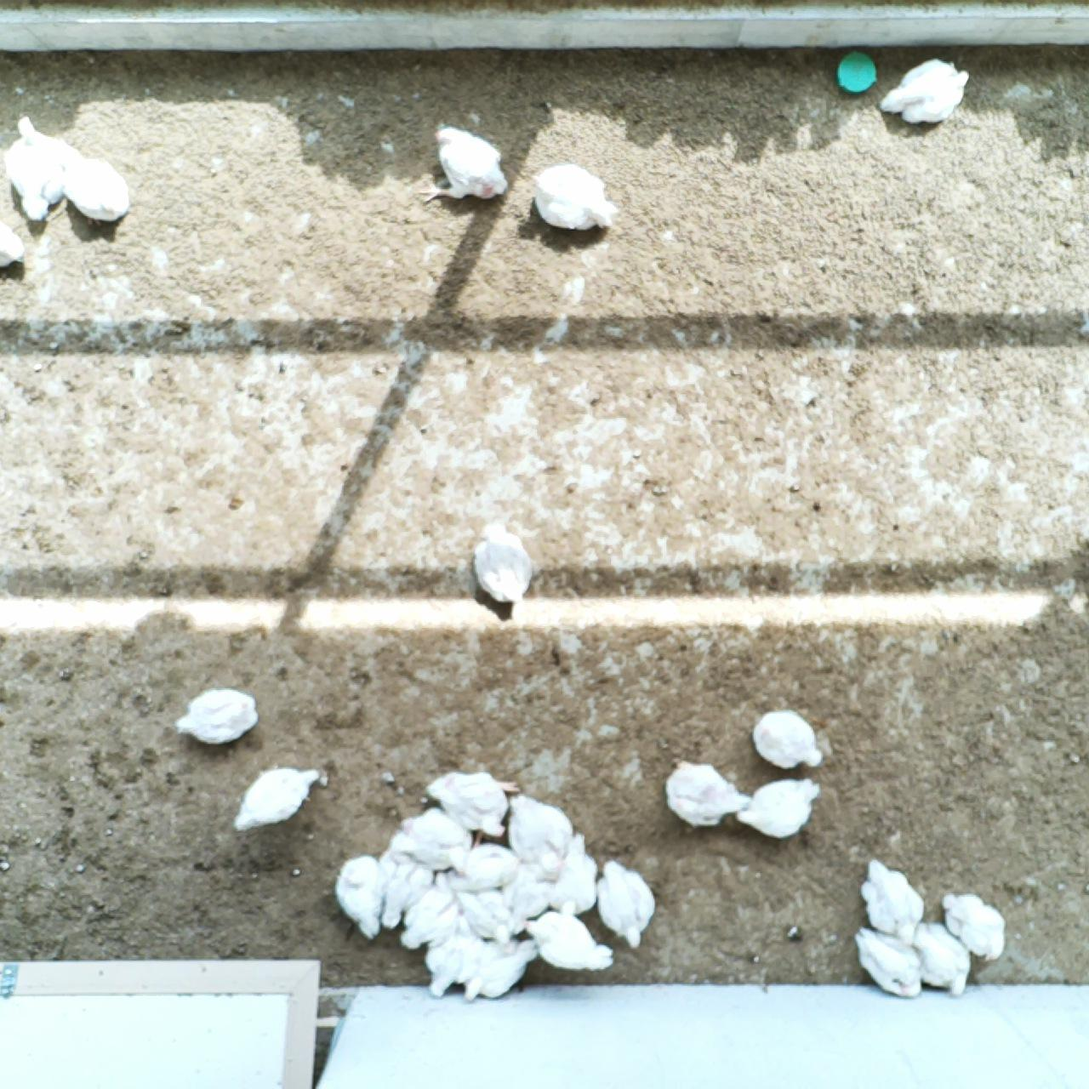chicken: (415, 125, 510, 209), (47, 135, 130, 230), (526, 158, 618, 236), (877, 56, 971, 131), (426, 769, 521, 842), (517, 906, 617, 975), (663, 755, 753, 830), (8, 113, 67, 222), (591, 855, 656, 949), (735, 774, 822, 843), (230, 765, 321, 830), (858, 855, 923, 945), (388, 805, 471, 870), (504, 793, 566, 880), (458, 932, 536, 1001), (908, 908, 969, 996), (472, 520, 531, 610), (850, 925, 922, 998), (373, 844, 433, 930), (172, 685, 259, 744), (441, 875, 519, 940), (493, 854, 554, 937), (543, 828, 600, 915), (425, 908, 479, 999), (940, 889, 1005, 960), (335, 852, 385, 941), (753, 704, 821, 768), (402, 875, 458, 949), (442, 844, 526, 892), (0, 211, 26, 271)
